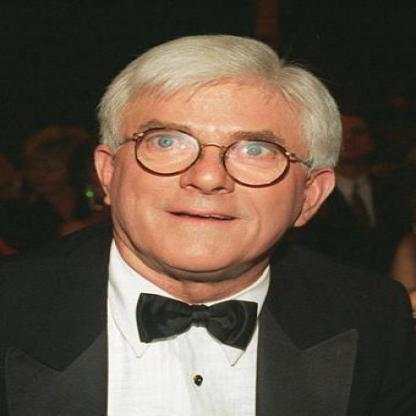face: (111, 50, 316, 274), (27, 142, 77, 196), (326, 111, 375, 161)
